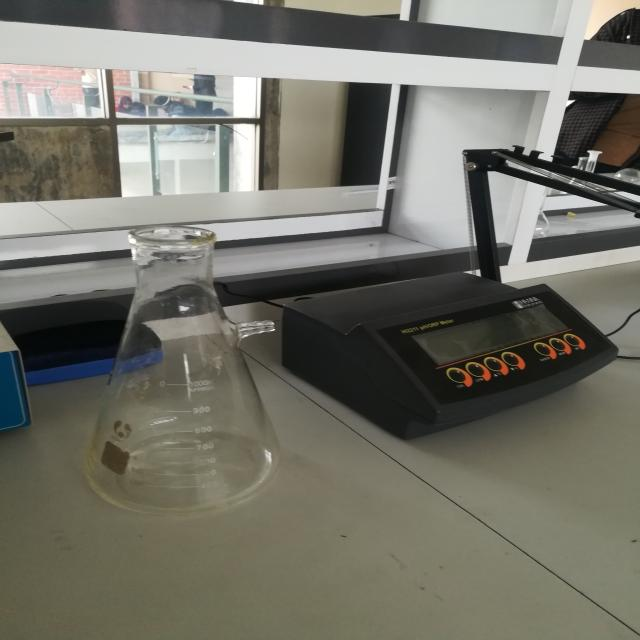Conical_Flask: (67, 200, 316, 532)
